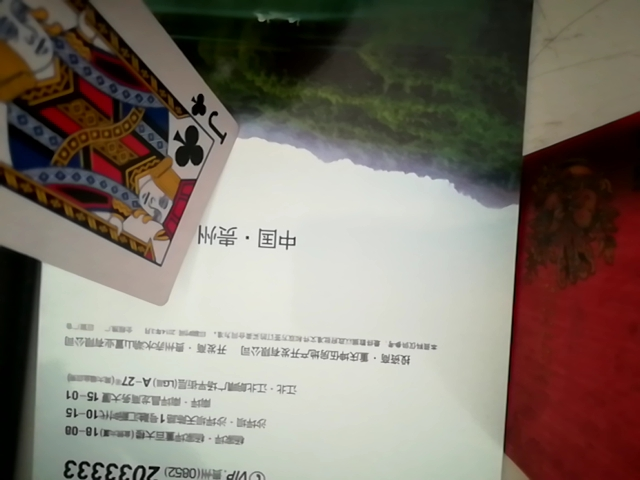mh j: (0, 0, 229, 335)
